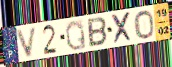2: (41, 23, 59, 56)
B: (87, 16, 109, 49)
O: (132, 9, 155, 40)
Q: (65, 19, 88, 52)
V: (15, 25, 39, 59)
X: (111, 11, 134, 46)
